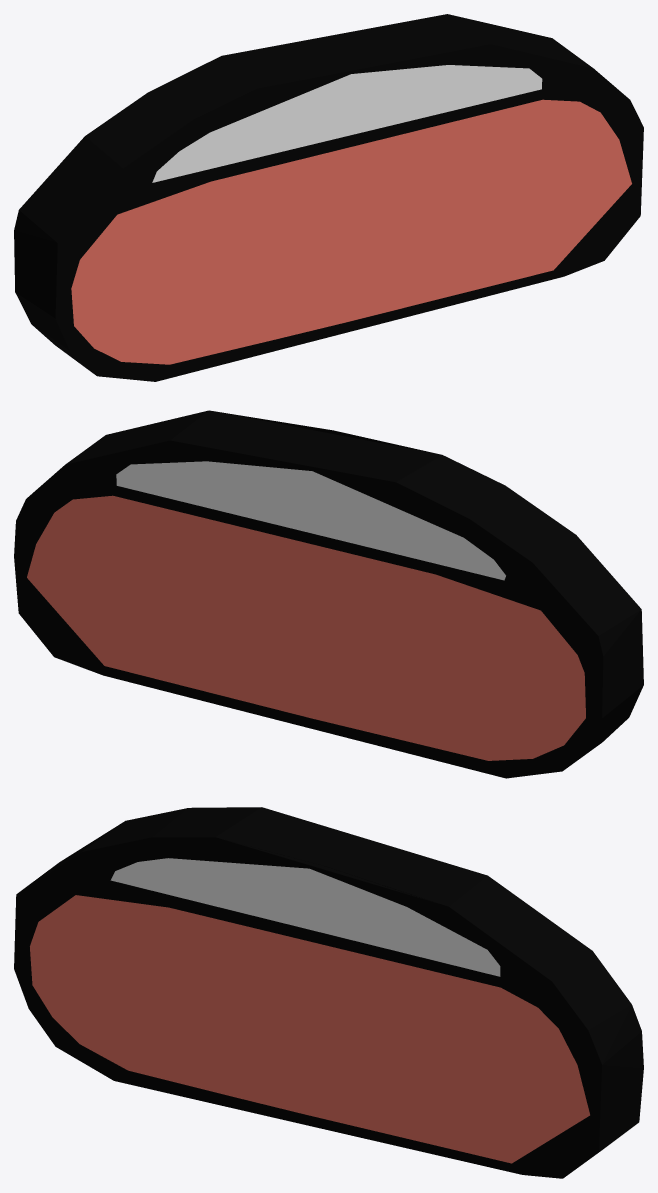
File: mouth_shape_4.fbx
The picture shows the model from 3 angles, top to bottom: view 1: azimuth 30°, elevation 25°; view 2: azimuth 150°, elevation 25°; view 3: azimuth 330°, elevation 25°; orthographic projection.
Visible parts, largest first — view 1: mouth_shape_4; view 2: mouth_shape_4; view 3: mouth_shape_4.
Part boxes in pixels (left/top/right/bottom): mouth_shape_4: left=14, top=14, right=643, bottom=381; mouth_shape_4: left=14, top=410, right=643, bottom=778; mouth_shape_4: left=14, top=807, right=643, bottom=1178.
Bounding box in the file's own units: 25.37 × 3.06 × 11.1.
